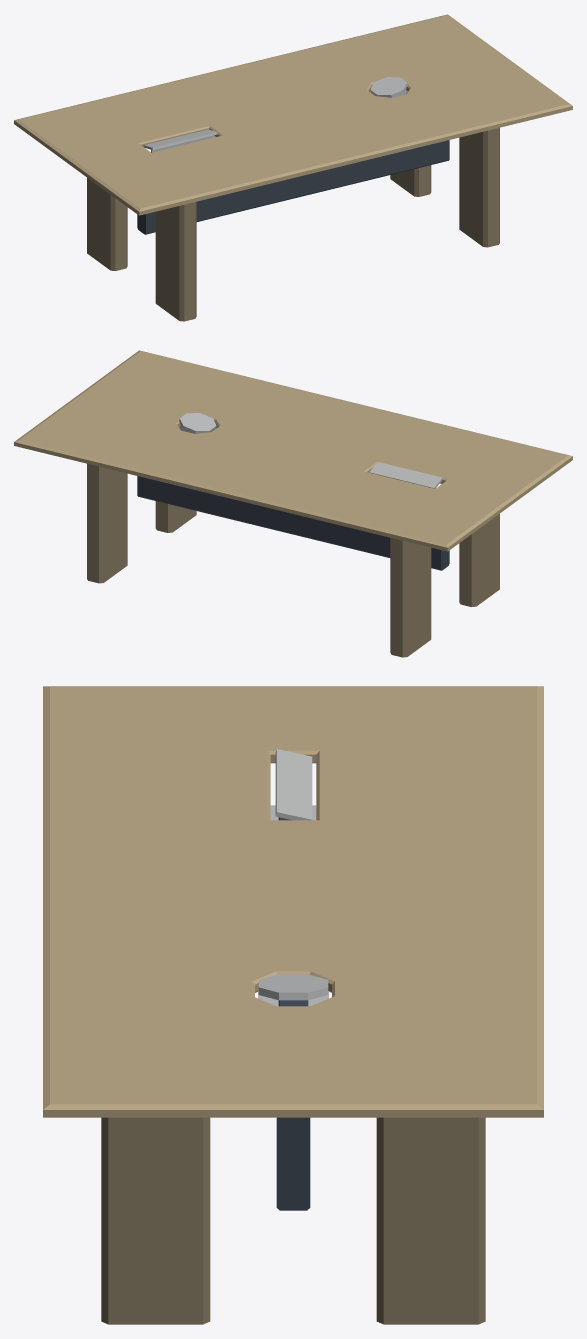
Rendered from boardroom-table-d5d666.glb.
3 renders of one model, top to bottom at view 1: azimuth 30°, elevation 25°; view 2: azimuth 150°, elevation 25°; view 3: azimuth 270°, elevation 25°, orthographic. The views are drawn at different scales.
Parts seen in each view (by area): view 1: boardroom-table, grommet-cap; view 2: boardroom-table, grommet-cap; view 3: boardroom-table, grommet-cap.
Boxes of the visible parts, bbox=[...] form: boardroom-table: bbox=[14, 14, 572, 321]; grommet-cap: bbox=[370, 77, 407, 97]; boardroom-table: bbox=[14, 350, 572, 657]; grommet-cap: bbox=[179, 413, 216, 433]; boardroom-table: bbox=[43, 686, 543, 1324]; grommet-cap: bbox=[258, 974, 328, 1000].
Bounding box in the file's own units: 2.4 × 0.7474 × 1.2.
